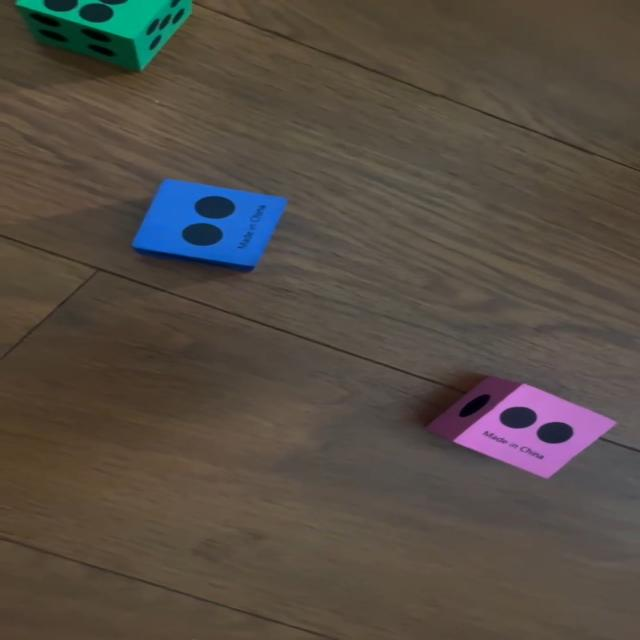blue_block: (131, 178, 287, 271)
